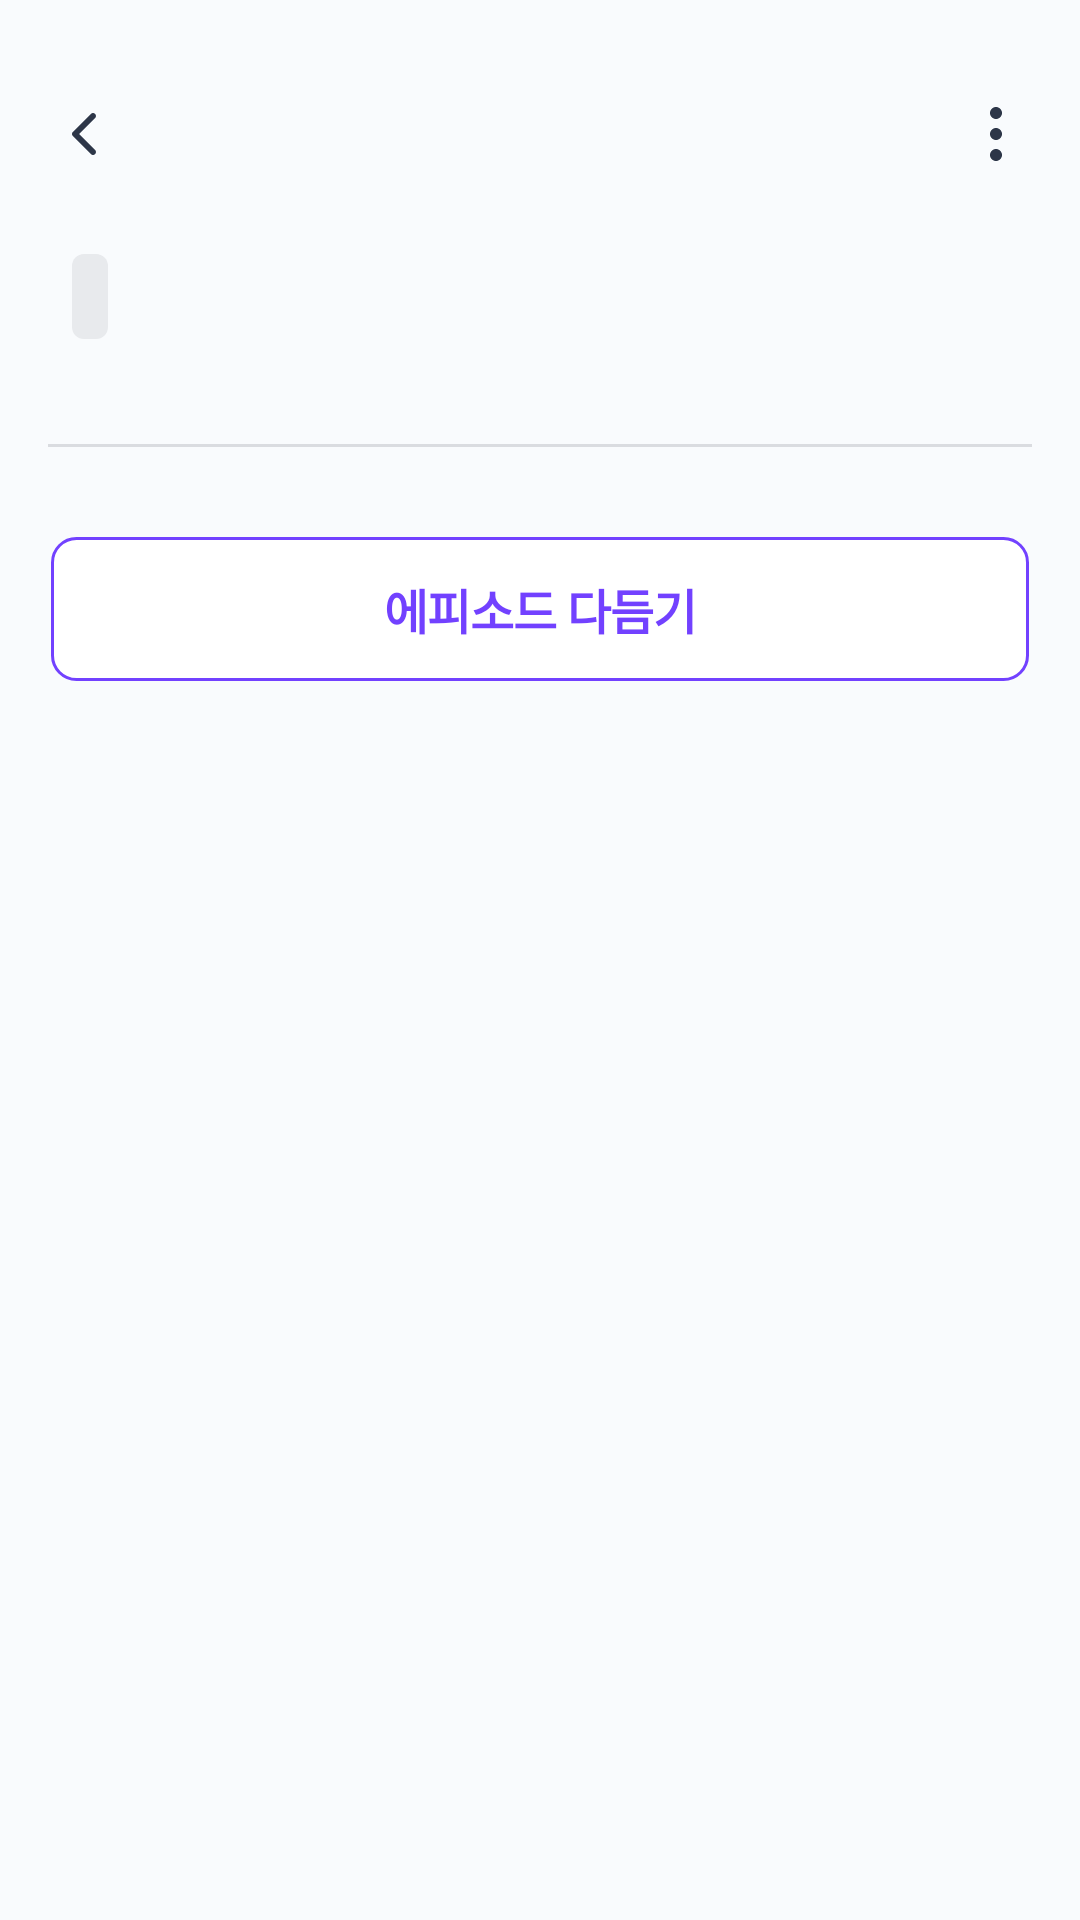

Named icons in this screenshot (1080px x 1920px) and their bounding boxes, {"x1": x1, "y1": y1, "x2": x2, "y2": y2}:
arrow: {"x1": 72, "y1": 113, "x2": 96, "y2": 155}
more vertical: {"x1": 990, "y1": 107, "x2": 1002, "y2": 161}
